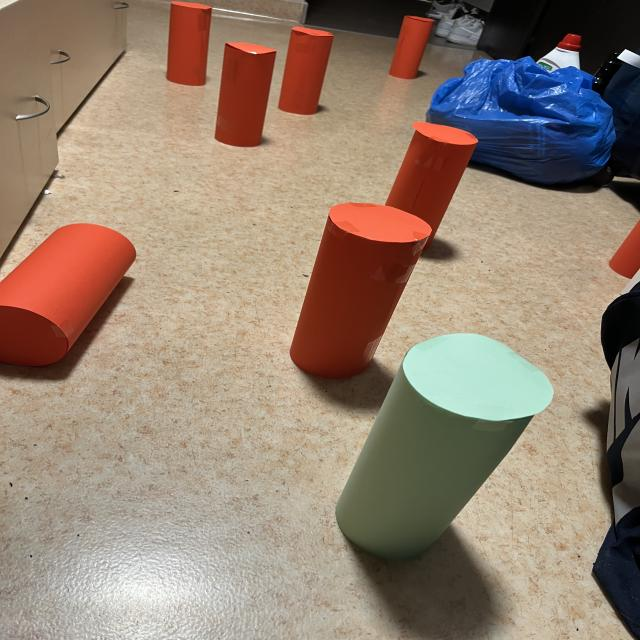meta: (335, 333, 553, 559)
przeszkoda: (290, 203, 432, 378), (0, 224, 136, 366), (385, 122, 477, 249), (215, 43, 276, 147), (279, 27, 333, 115), (167, 2, 211, 86), (390, 16, 434, 79)
